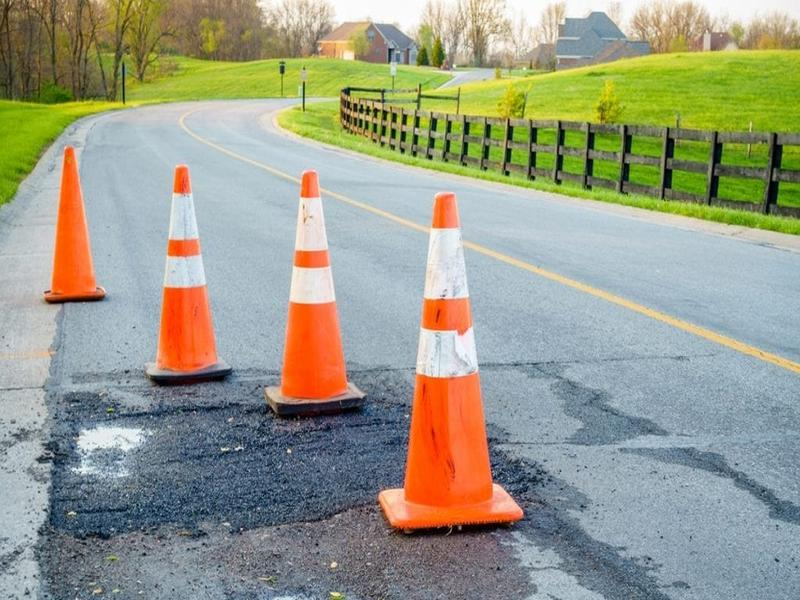Cone: (43, 145, 106, 304)
